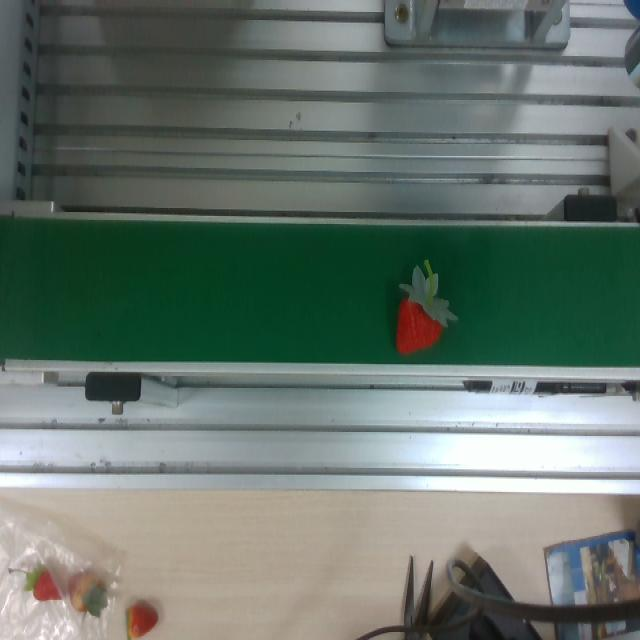Small Ripe Strawberry: (393, 256, 458, 357)
conveyor: (2, 212, 640, 383)
